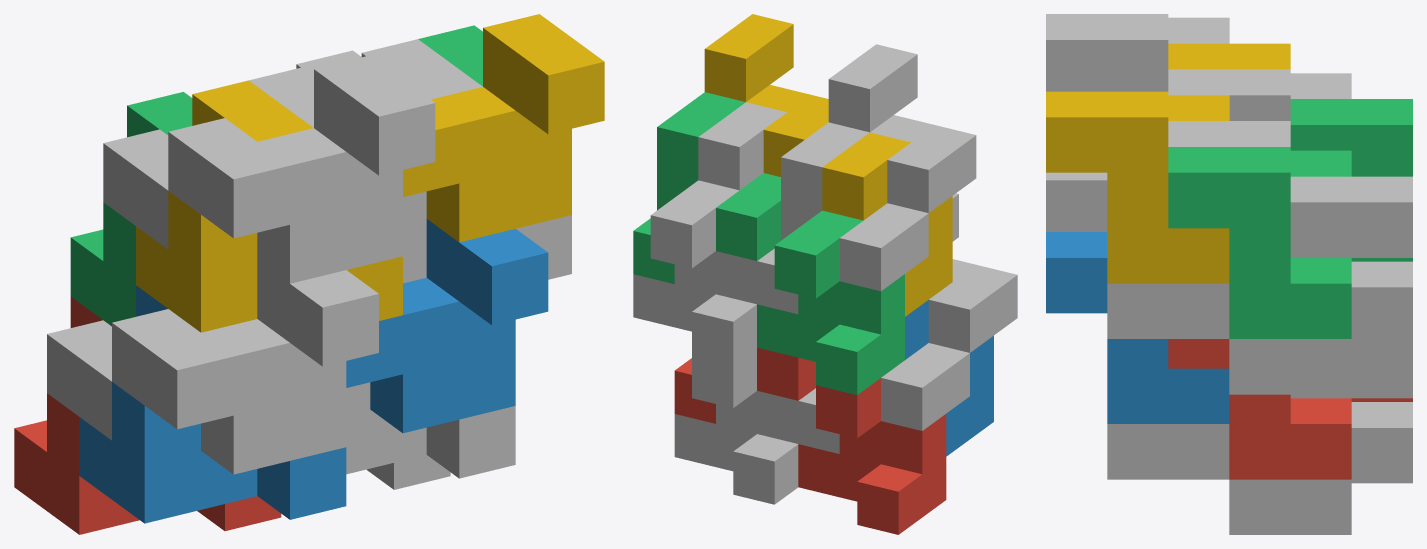
File: tiling.obj
3 renders of one model, left to right at view 1: azimuth 30°, elevation 25°; view 2: azimuth 150°, elevation 25°; view 3: azimuth 270°, elevation 25°, orthographic. The views are drawn at different scales.
Parts seen in each view (by area): view 1: copy_2_domain_4, copy_2_domain_2, copy_2_domain_8, copy_2_domain_6, copy_1_domain_2, copy_1_domain_4, copy_1_domain_1, copy_1_domain_6, copy_1_domain_3, copy_2_domain_3, copy_1_domain_8, copy_2_domain_1 (+2 smaller); view 2: copy_1_domain_3, copy_1_domain_1, copy_1_domain_7, copy_2_domain_4, copy_1_domain_5, copy_2_domain_3, copy_2_domain_7, copy_2_domain_8, copy_1_domain_4, copy_2_domain_1, copy_2_domain_2, copy_1_domain_8 (+2 smaller); view 3: copy_2_domain_7, copy_1_domain_7, copy_2_domain_8, copy_1_domain_5, copy_2_domain_6, copy_2_domain_5, copy_2_domain_4, copy_1_domain_8, copy_1_domain_3, copy_1_domain_6, copy_2_domain_3, copy_2_domain_2 (+1 smaller).
Part boxes in pixels (bbox=[...]): copy_2_domain_4: bbox=[168, 55, 435, 283]; copy_2_domain_2: bbox=[112, 260, 378, 474]; copy_2_domain_8: bbox=[403, 14, 604, 242]; copy_2_domain_6: bbox=[346, 219, 548, 433]; copy_1_domain_2: bbox=[79, 285, 346, 523]; copy_1_domain_4: bbox=[136, 80, 402, 332]; copy_1_domain_1: bbox=[14, 296, 281, 534]; copy_1_domain_6: bbox=[346, 382, 515, 478]; copy_1_domain_3: bbox=[70, 92, 192, 326]; copy_2_domain_3: bbox=[103, 66, 313, 249]; copy_1_domain_8: bbox=[361, 39, 571, 283]; copy_2_domain_1: bbox=[47, 320, 111, 440]; copy_1_domain_3: bbox=[757, 210, 904, 394]; copy_1_domain_1: bbox=[798, 378, 946, 534]; copy_1_domain_7: bbox=[633, 180, 756, 364]; copy_2_domain_4: bbox=[828, 44, 976, 213]; copy_1_domain_5: bbox=[674, 348, 798, 504]; copy_2_domain_3: bbox=[757, 122, 928, 314]; copy_2_domain_7: bbox=[633, 92, 780, 283]; copy_2_domain_8: bbox=[704, 14, 828, 176]; copy_1_domain_4: bbox=[822, 132, 952, 316]; copy_2_domain_1: bbox=[798, 343, 969, 453]; copy_2_domain_2: bbox=[928, 193, 1017, 352]; copy_1_domain_8: bbox=[698, 102, 786, 190]; copy_2_domain_7: bbox=[1168, 147, 1351, 338]; copy_1_domain_7: bbox=[1229, 176, 1412, 394]; copy_2_domain_8: bbox=[1046, 91, 1229, 283]; copy_1_domain_5: bbox=[1229, 343, 1412, 534]; copy_2_domain_6: bbox=[1046, 232, 1229, 423]; copy_2_domain_5: bbox=[1168, 339, 1351, 479]; copy_2_domain_4: bbox=[1046, 14, 1229, 91]; copy_1_domain_8: bbox=[1107, 121, 1290, 338]; copy_1_domain_3: bbox=[1290, 99, 1412, 261]; copy_1_domain_6: bbox=[1107, 424, 1229, 479]; copy_2_domain_3: bbox=[1168, 69, 1351, 120]; copy_2_domain_2: bbox=[1046, 172, 1107, 231].
Size of the model in its own units: 7 by 8 by 6.
